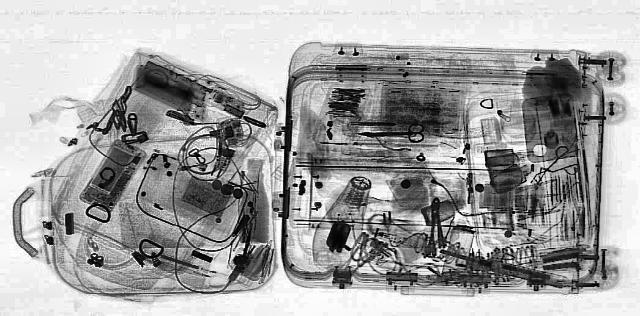Scissors: (358, 124, 424, 142)
